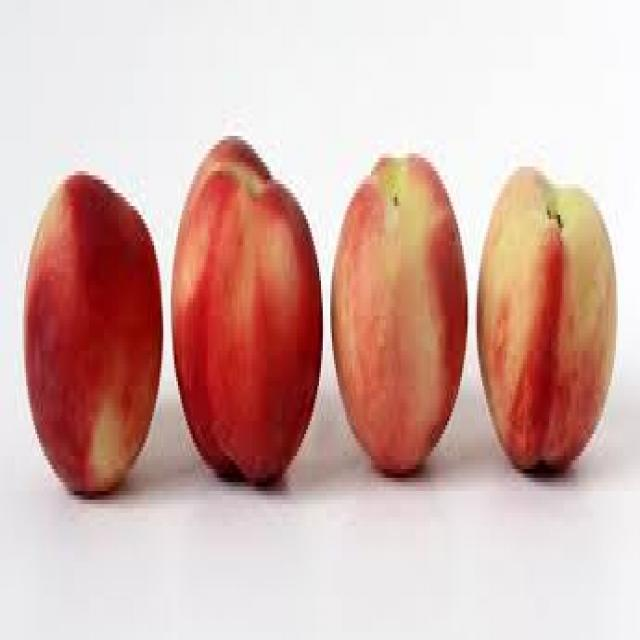peach: (170, 136, 324, 500), (13, 166, 165, 508), (475, 158, 619, 487), (330, 149, 471, 478)
